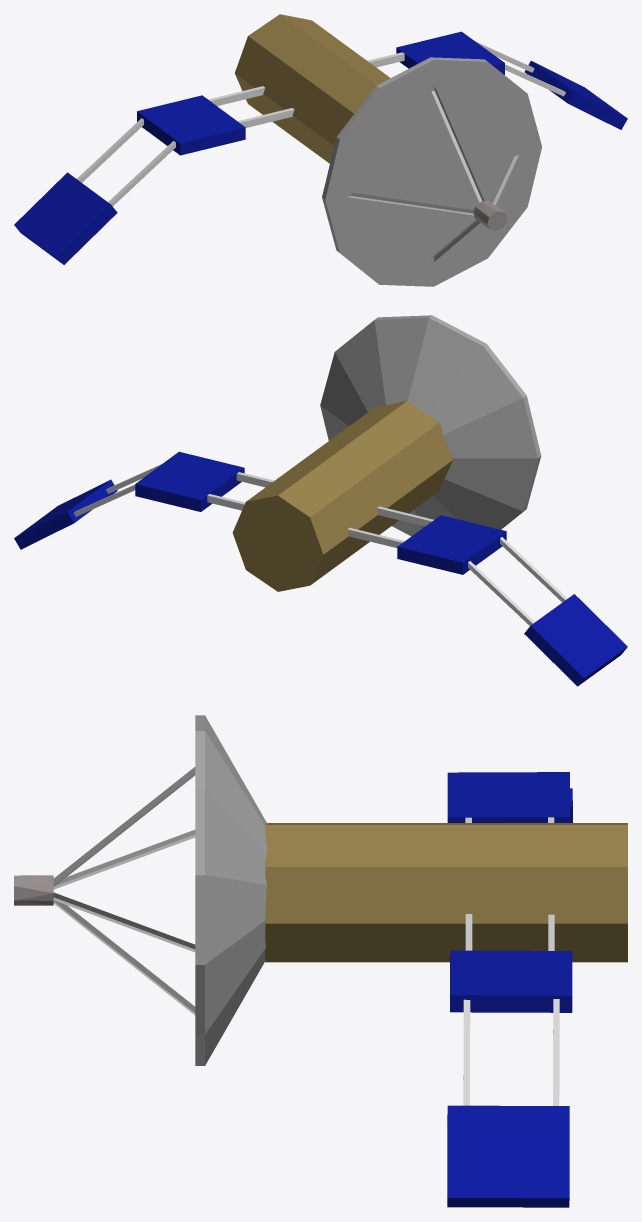
The model's file is satellite_med.gltf.
3 renders of one model, top to bottom at view 1: azimuth 30°, elevation 25°; view 2: azimuth 150°, elevation 25°; view 3: azimuth 270°, elevation 25°, orthographic. The views are drawn at different scales.
Parts seen in each view (by area): view 1: Cone, Cylinder.004, Cylinder.000, Cylinder.005, Cube.003, Cube, Cylinder.001; view 2: Cone, Cylinder.004, Cylinder.000, Cylinder.005; view 3: Cylinder.004, Cylinder.005, Cone, Cylinder.000, Cube, Cube.002, Cylinder.001, Cube.001, Cube.003.
Boxes of the visible parts, x1,y1,x2,y2 form: Cone: (322, 57, 541, 286); Cylinder.004: (235, 14, 390, 163); Cylinder.000: (14, 86, 294, 264); Cylinder.005: (367, 31, 627, 129); Cube.003: (347, 192, 473, 215); Cube: (431, 86, 484, 202); Cylinder.001: (473, 200, 507, 230); Cone: (320, 315, 541, 536); Cylinder.004: (232, 400, 452, 591); Cylinder.000: (347, 506, 627, 686); Cylinder.005: (14, 451, 274, 549); Cylinder.004: (265, 823, 627, 962); Cylinder.005: (447, 914, 572, 1207); Cone: (195, 715, 267, 1065); Cylinder.000: (447, 772, 572, 822); Cube: (53, 767, 195, 886); Cube.002: (53, 900, 195, 1015); Cylinder.001: (14, 875, 53, 905); Cube.001: (53, 892, 195, 952); Cube.003: (53, 830, 195, 889).
Bounding box in the file's own units: 22.82 × 8.69 × 15.17.
